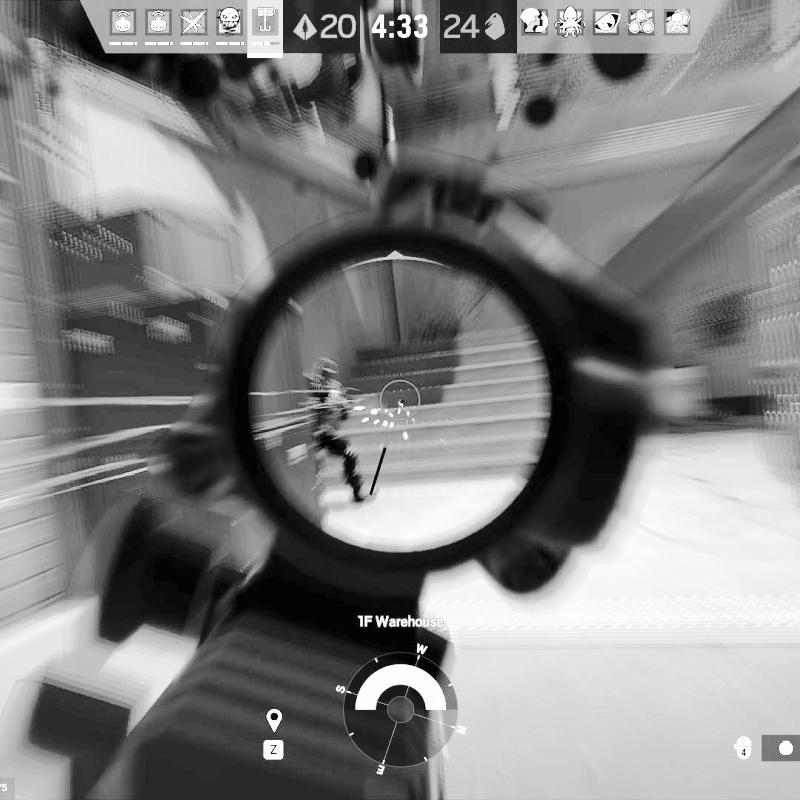Character: (307, 356, 378, 509)
Head: (315, 358, 340, 384)
